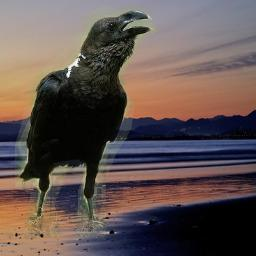Crow: (15, 5, 157, 238)
